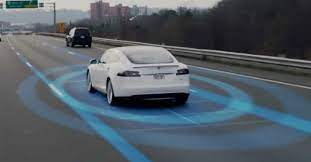car: (85, 44, 194, 108)
